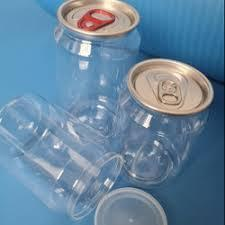BIODEGRADABLE: (0, 95, 124, 222), (106, 61, 214, 187), (53, 0, 142, 140)
